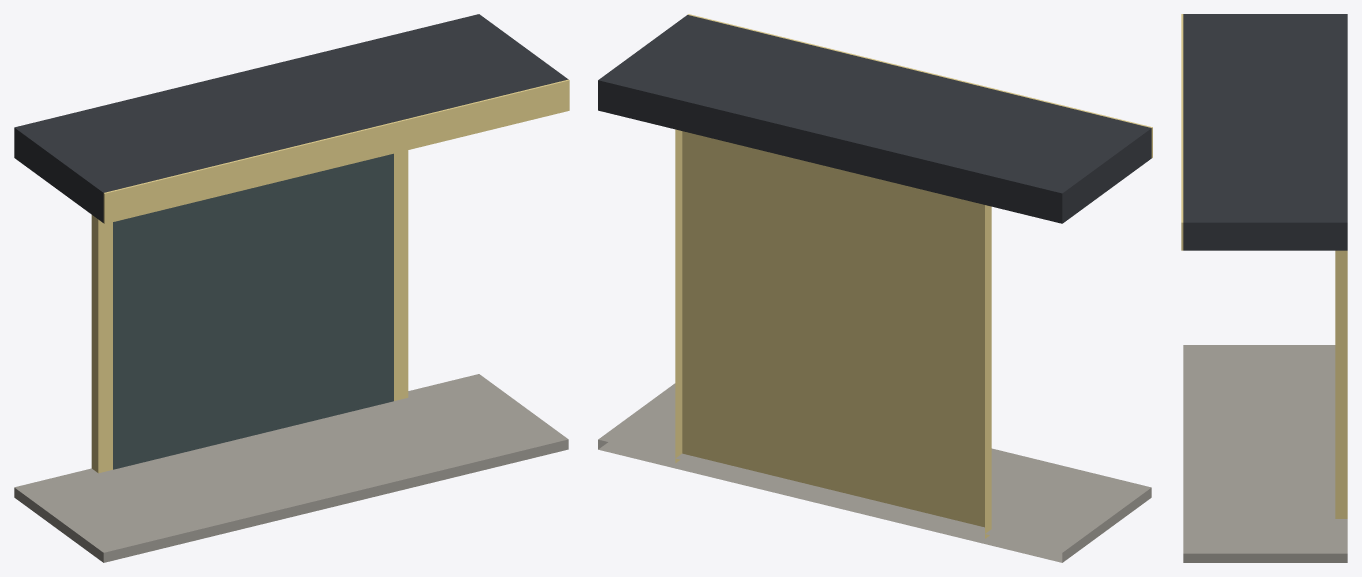
File: entrance.fbx
3 views of the same model, side by side, from view 1: azimuth 30°, elevation 25°; view 2: azimuth 150°, elevation 25°; view 3: azimuth 270°, elevation 25° (orthographic). The views are drawn at different scales.
Parts seen in each view (by area): view 1: a2009/800/entrance; view 2: a2009/800/entrance; view 3: a2009/800/entrance.
Part boxes in pixels (x1,y1,x2,y2): a2009/800/entrance: (14,14,569,562); a2009/800/entrance: (598,14,1152,562); a2009/800/entrance: (1181,14,1347,562).
Bounding box in the file's own units: 4.8 × 3.65 × 1.62.
